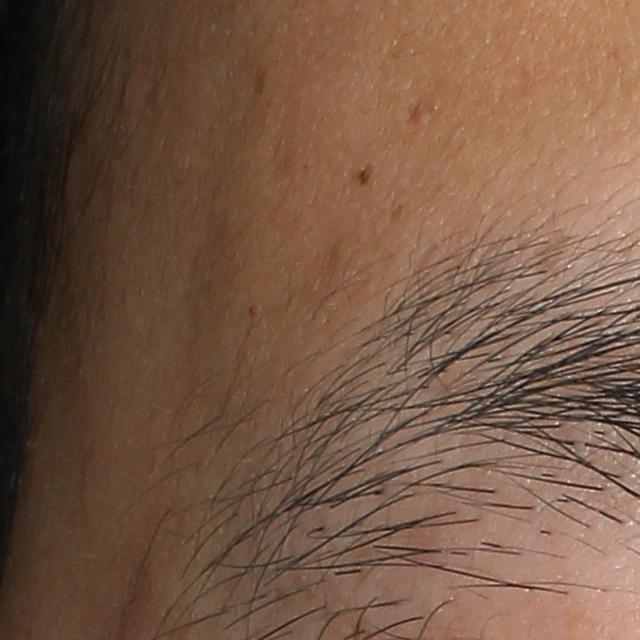nevus: (355, 163, 377, 188)
